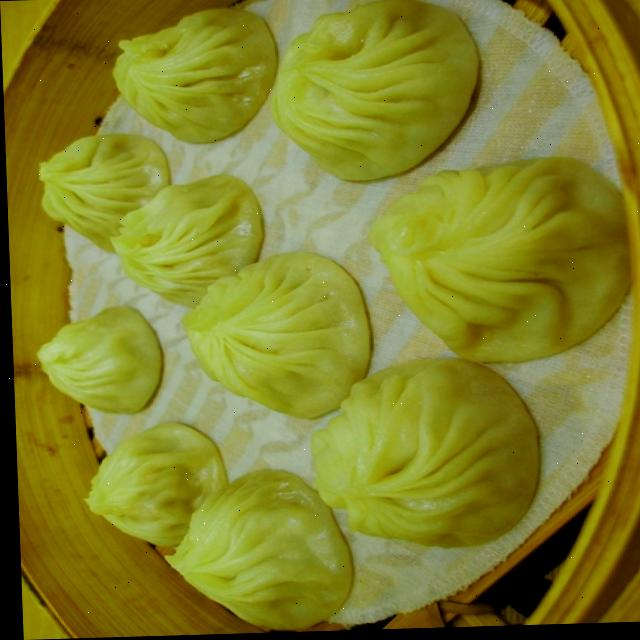带馅早点: (28, 0, 636, 625)
